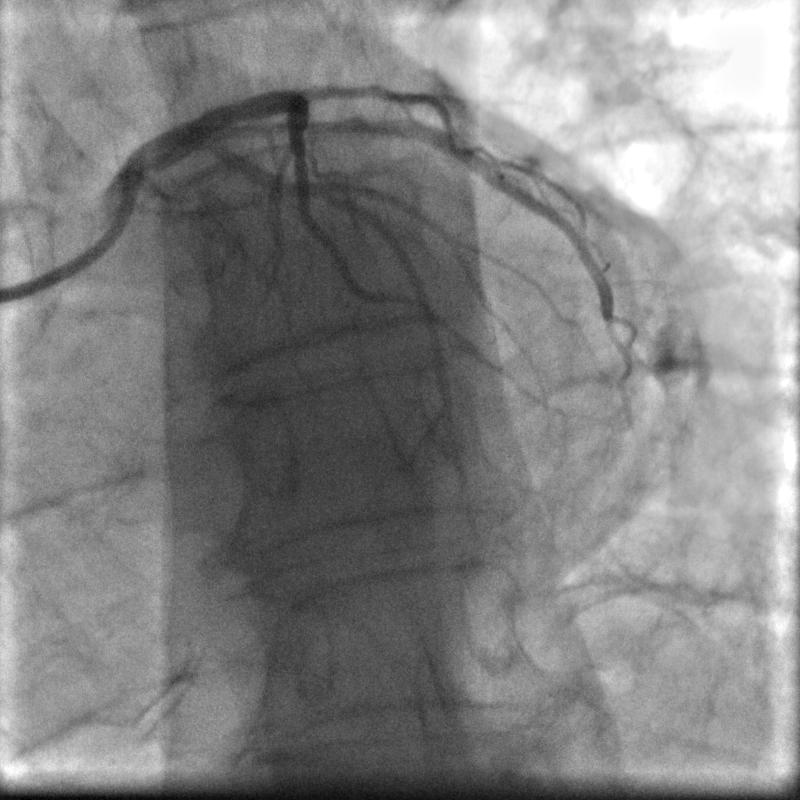Stenosis: (286, 124, 316, 188)
